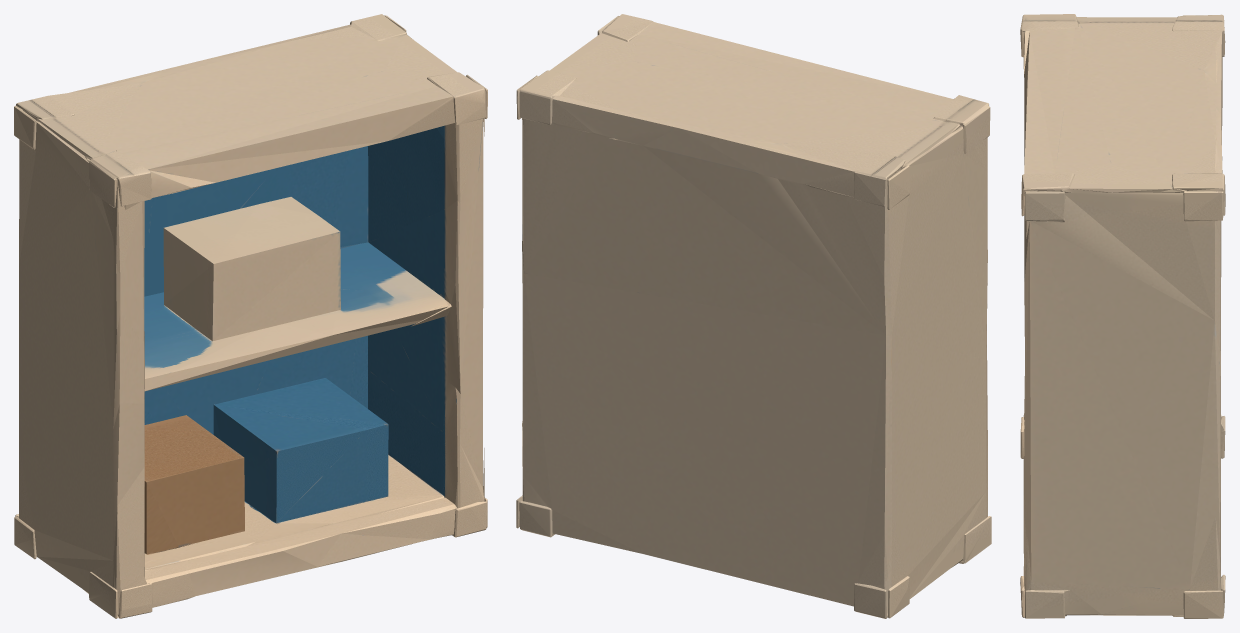
File: meshy-model.glb
3 views of the same model, side by side, from view 1: azimuth 30°, elevation 25°; view 2: azimuth 150°, elevation 25°; view 3: azimuth 270°, elevation 25° (orthographic). The views are drawn at different scales.
Bounding box in the file's own units: 1.69 × 1.9 × 0.8234.
Materials: 1 (1 with a texture image).
